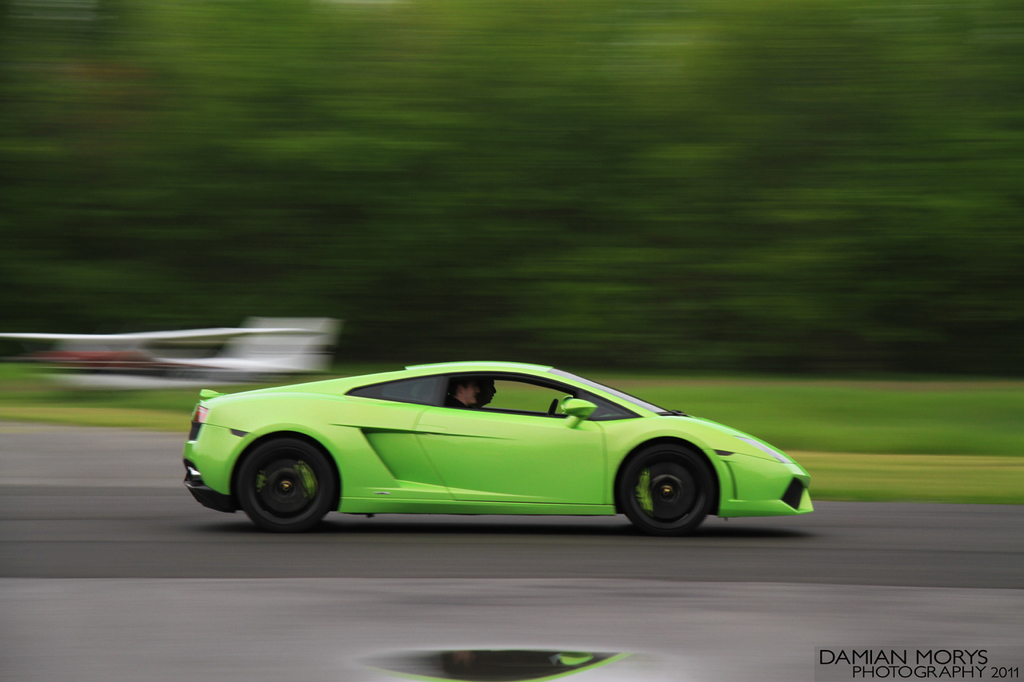Car: (176, 355, 813, 537)
